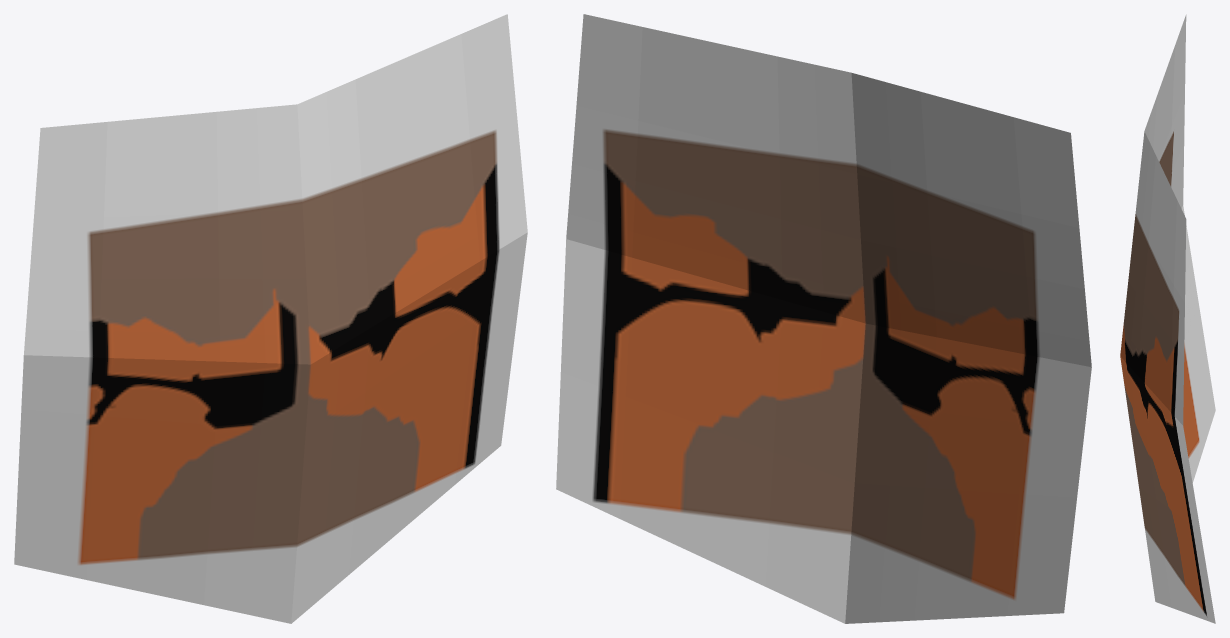
The model's file is faceGeo.fbx.
3 views of the same model, side by side, from view 1: azimuth 30°, elevation 25°; view 2: azimuth 150°, elevation 25°; view 3: azimuth 270°, elevation 25° (orthographic). The views are drawn at different scales.
Parts seen in each view (by area): view 1: faceGeo; view 2: faceGeo; view 3: faceGeo.
Boxes of the visible parts, x1,y1,x2,y2 form: faceGeo: [14, 14, 527, 623]; faceGeo: [556, 14, 1091, 623]; faceGeo: [1120, 14, 1215, 623].
Size of the model in its own units: 28.79 by 29.5 by 5.26.
